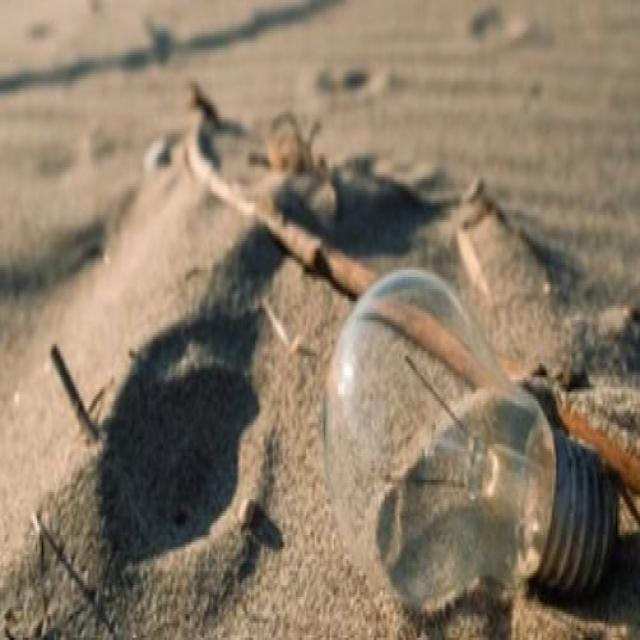electronic: (320, 265, 618, 619)
